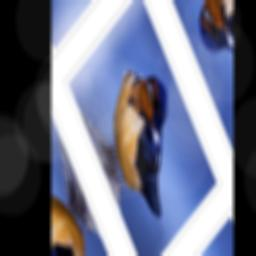Swallow: (85, 39, 208, 256)
